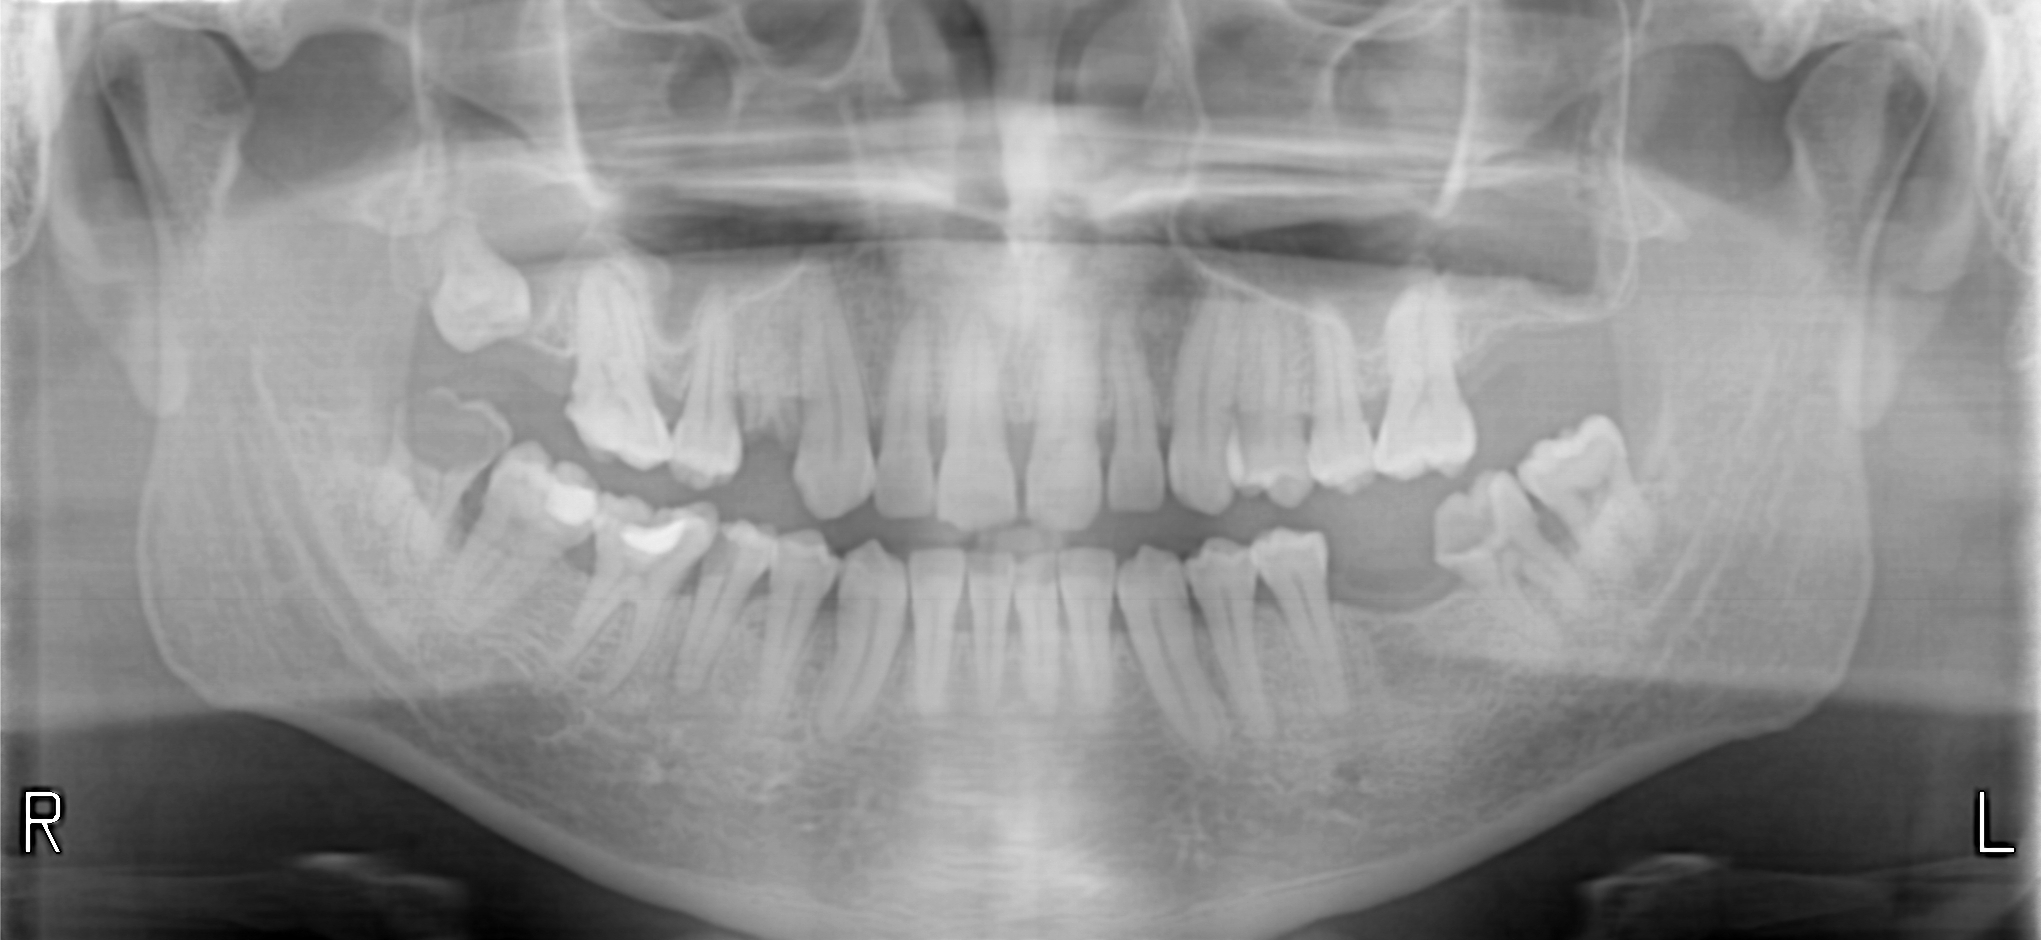cavity: (405, 398, 501, 469), (1436, 478, 1497, 549), (698, 538, 737, 579)
